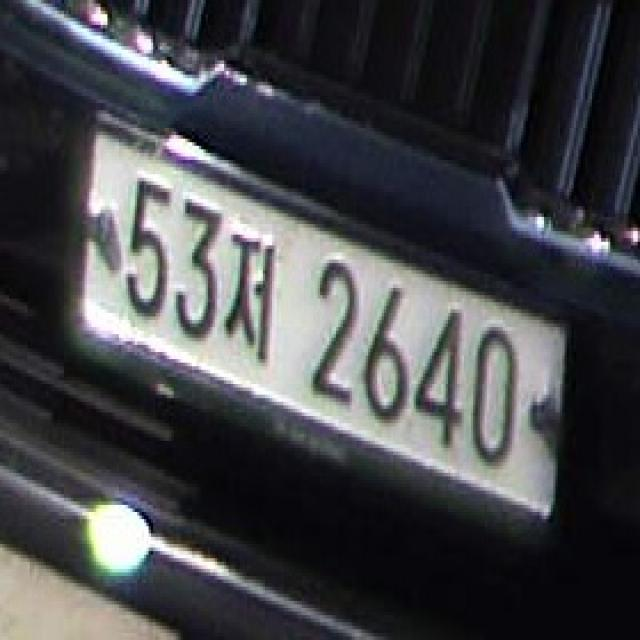0: (462, 309, 530, 487)
2: (313, 238, 354, 430)
3: (172, 174, 217, 370)
4: (409, 281, 466, 466)
5: (121, 167, 172, 334)
6: (366, 263, 411, 452)
jeo: (222, 224, 274, 366)
license_plate: (66, 106, 565, 554)
